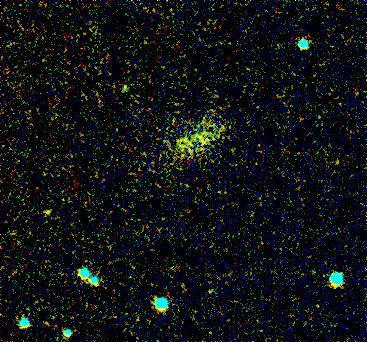star: (34, 195, 64, 225)
